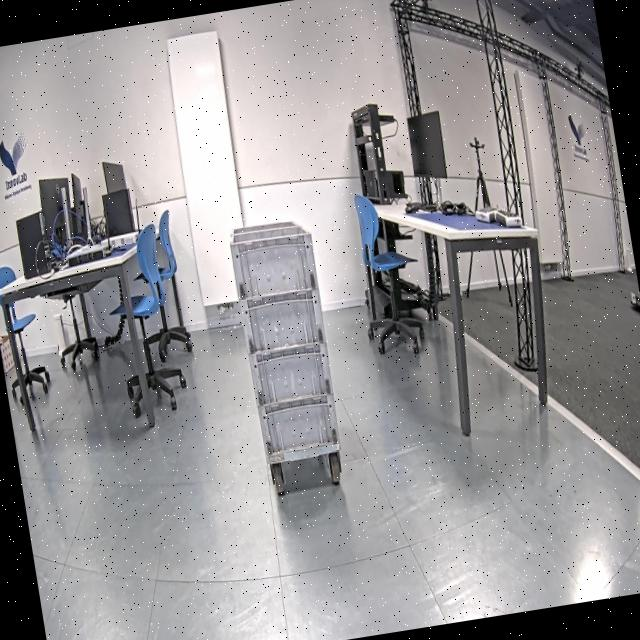Box8G: (225, 212, 346, 460)
